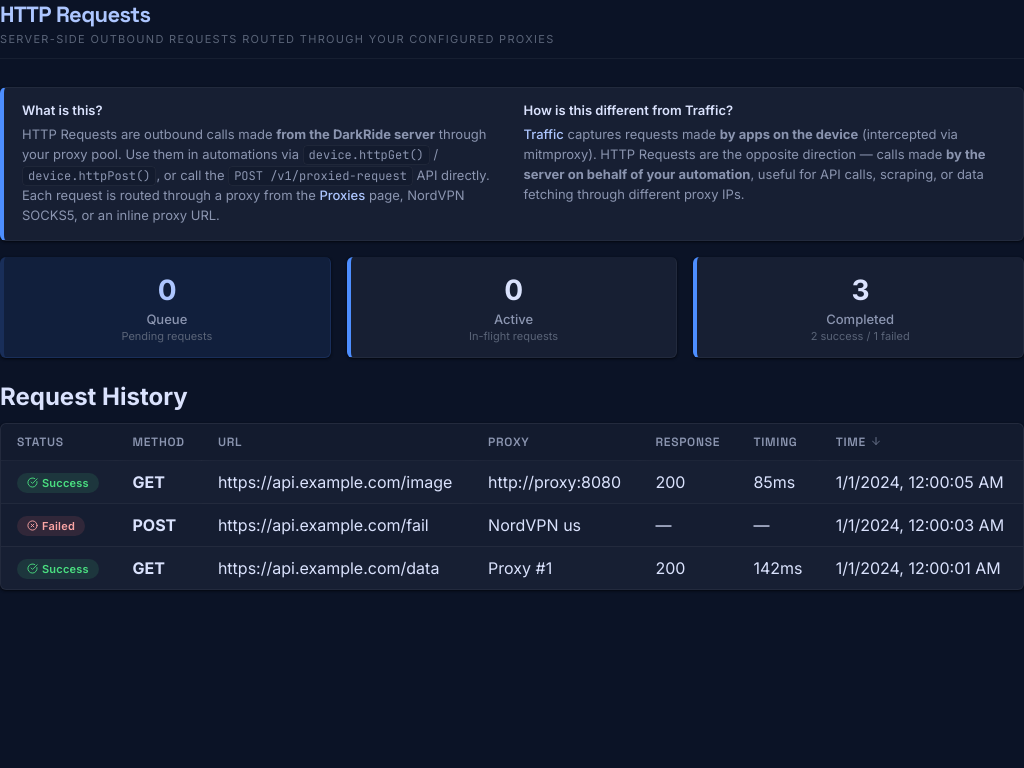
Test case: ProxiedRequests › shows error in failed request detail
What coordinates should you click on to do the following:
click the row with test id "row-req_2"
I would click on:
 (512, 525)
Its box is [1,503,1023,546].
(page scrolled)
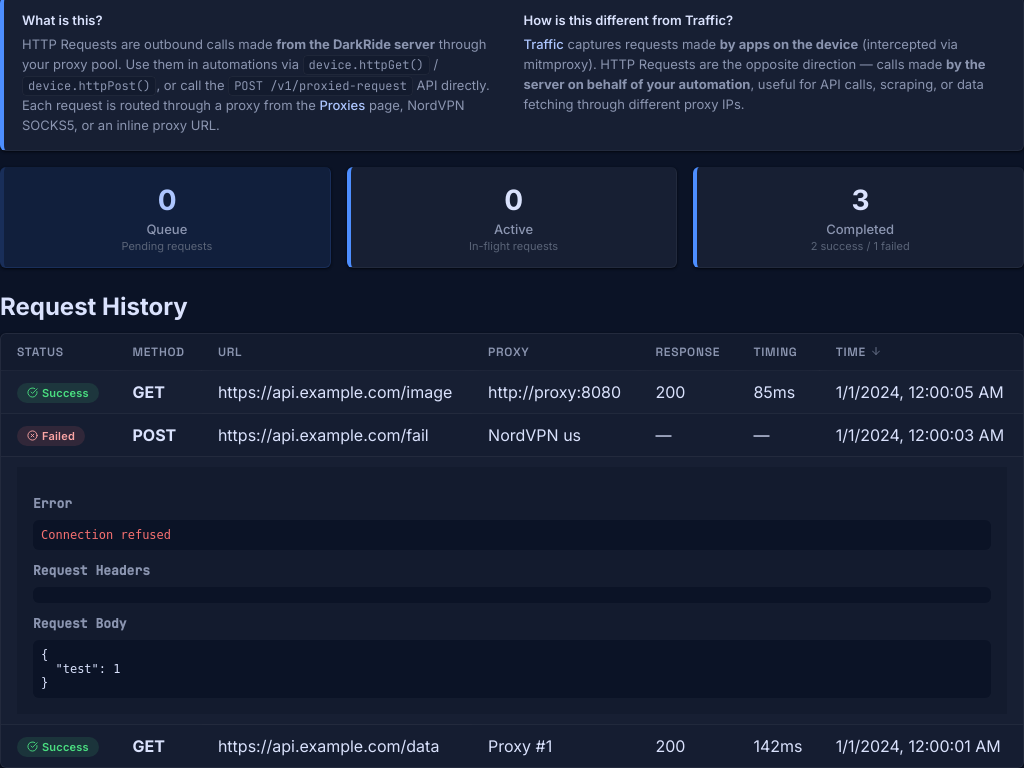
Now the element with test id "detail-req_2" shows "Connection refused", box [41,528,171,542]
